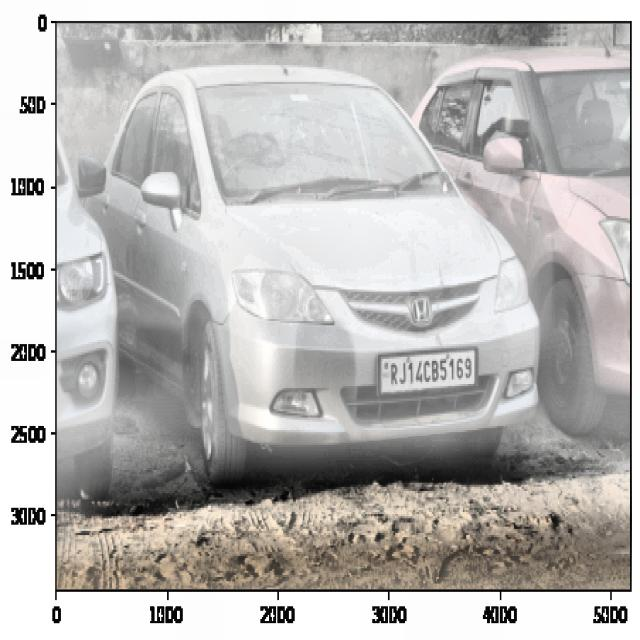license_plate: (386, 350, 481, 393)
